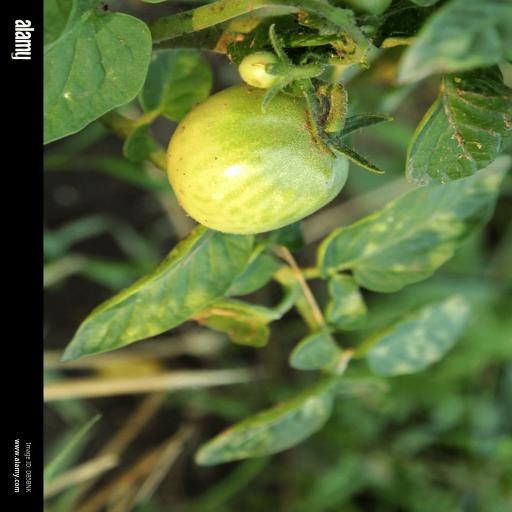Mosaic Virus: (313, 150, 512, 298), (58, 222, 258, 364), (349, 286, 489, 380)
